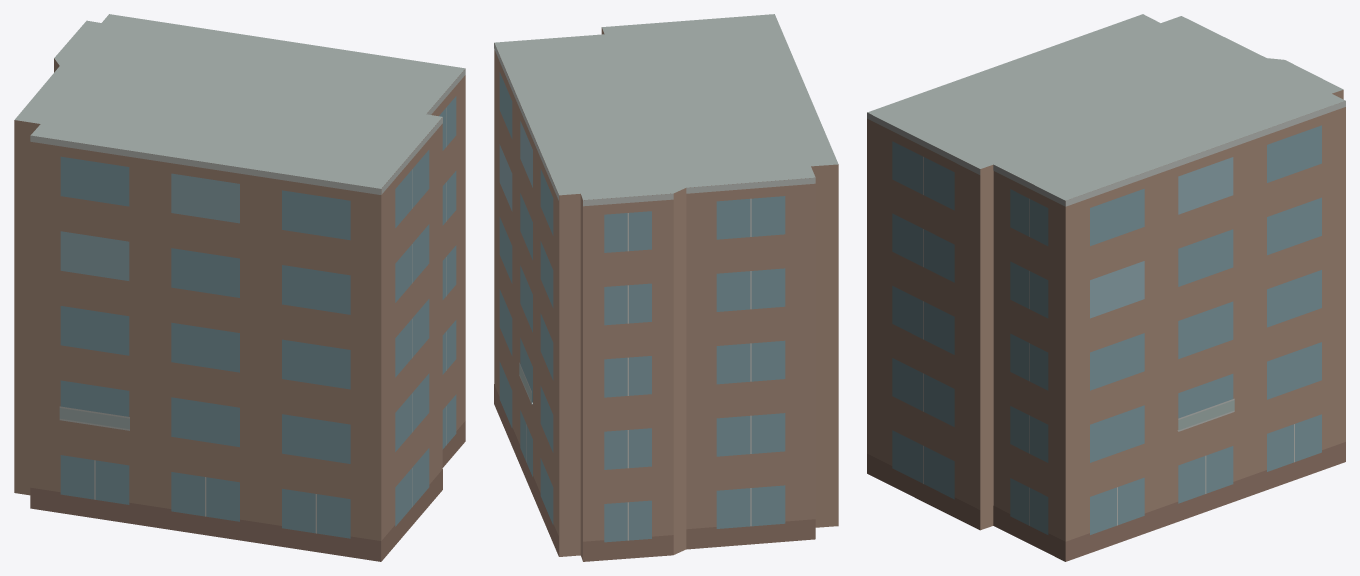
The model's file is survey-upis-32706294.glb.
3 views of the same model, side by side, from view 1: azimuth 30°, elevation 25°; view 2: azimuth 150°, elevation 25°; view 3: azimuth 270°, elevation 25° (orthographic). The views are drawn at different scales.
Parts seen in each view (by area): view 1: survey-upis-32706294.tmp; view 2: survey-upis-32706294.tmp; view 3: survey-upis-32706294.tmp.
Part boxes in pixels (x1=…): survey-upis-32706294.tmp: x1=14, y1=14, x2=465, y2=561; survey-upis-32706294.tmp: x1=494, y1=14, x2=838, y2=561; survey-upis-32706294.tmp: x1=867, y1=14, x2=1345, y2=561.
Bounding box in the file's own units: 16.08 × 14.5 × 17.43.
